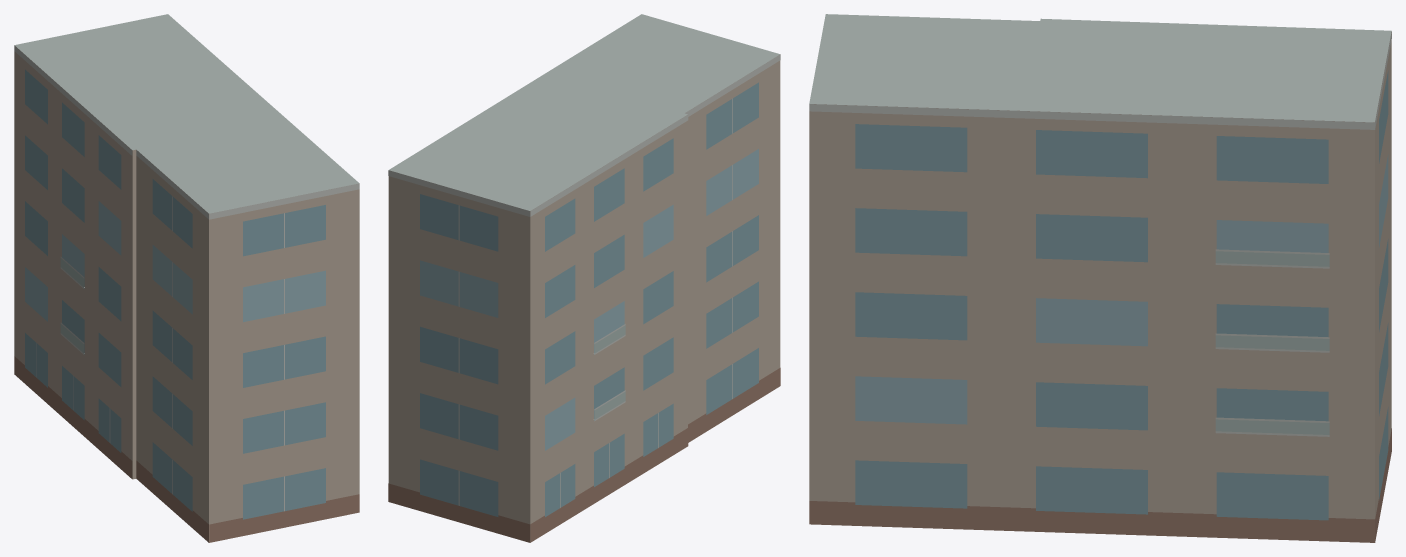
File: survey-upis-32753858.glb
3 views of the same model, side by side, from view 1: azimuth 30°, elevation 25°; view 2: azimuth 150°, elevation 25°; view 3: azimuth 270°, elevation 25° (orthographic). The views are drawn at different scales.
Parts seen in each view (by area): view 1: survey-upis-32753858.tmp; view 2: survey-upis-32753858.tmp; view 3: survey-upis-32753858.tmp.
Part boxes in pixels (x1=…): survey-upis-32753858.tmp: x1=14, y1=14, x2=359, y2=542; survey-upis-32753858.tmp: x1=388, y1=14, x2=780, y2=542; survey-upis-32753858.tmp: x1=809, y1=14, x2=1391, y2=542.
Bounding box in the file's own units: 7.53 × 13.6 × 17.09.
